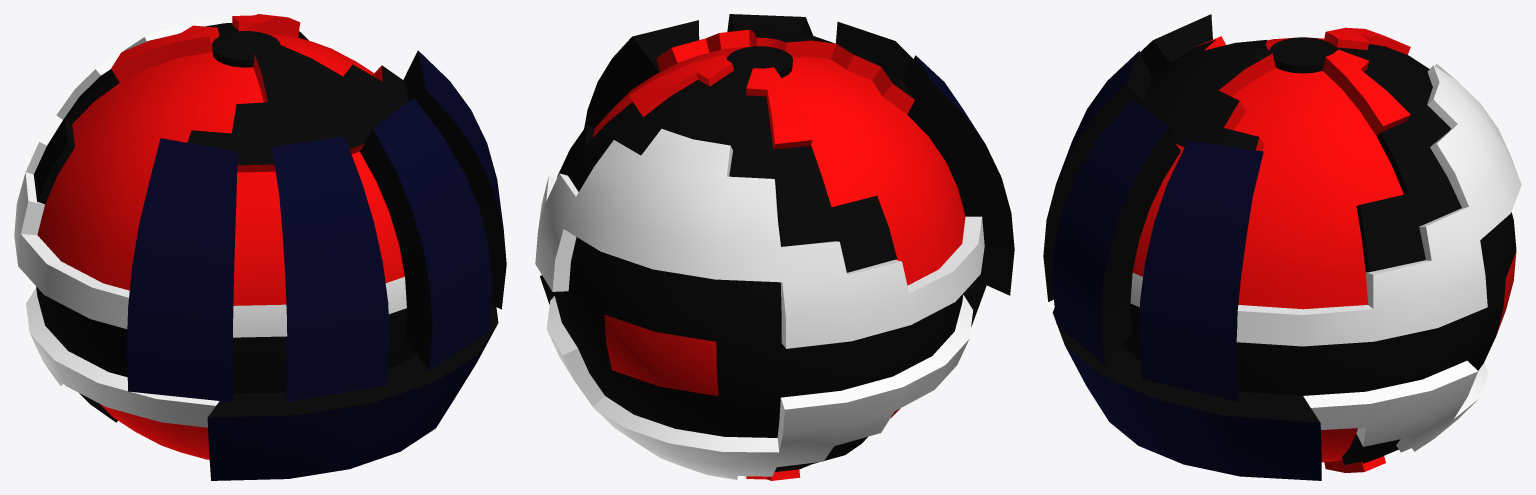
The model's file is fist.obj.
3 views of the same model, side by side, from view 1: azimuth 30°, elevation 25°; view 2: azimuth 150°, elevation 25°; view 3: azimuth 270°, elevation 25° (orthographic). The views are drawn at different scales.
Visible parts, largest first — view 1: R_fist; view 2: R_fist; view 3: R_fist.
Boxes of the visible parts, <box> form: R_fist: <box>14,14,506,480</box>; R_fist: <box>535,14,1014,480</box>; R_fist: <box>1043,14,1521,480</box>.
Bounding box in the file's own units: 2.25 × 2.13 × 2.24.
